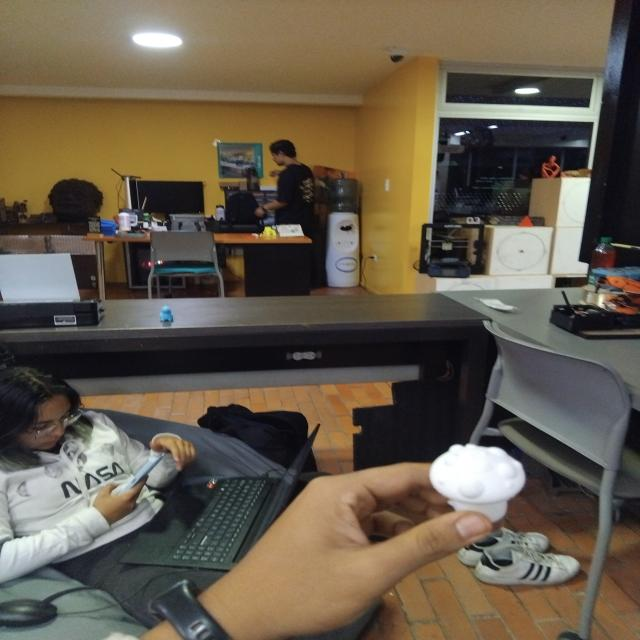Hongo: (423, 432, 527, 528)
